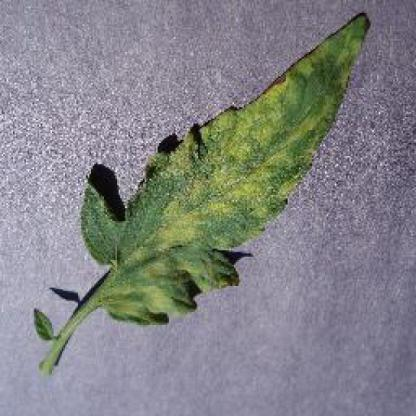Tomato_Leaf_Mold: (80, 11, 369, 319)
